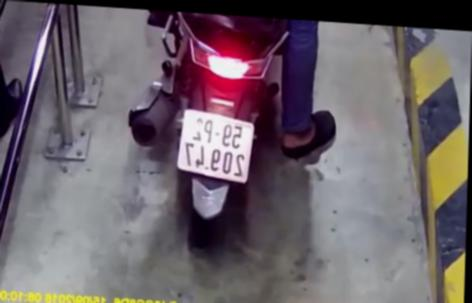License_Plate: (169, 104, 264, 185)
